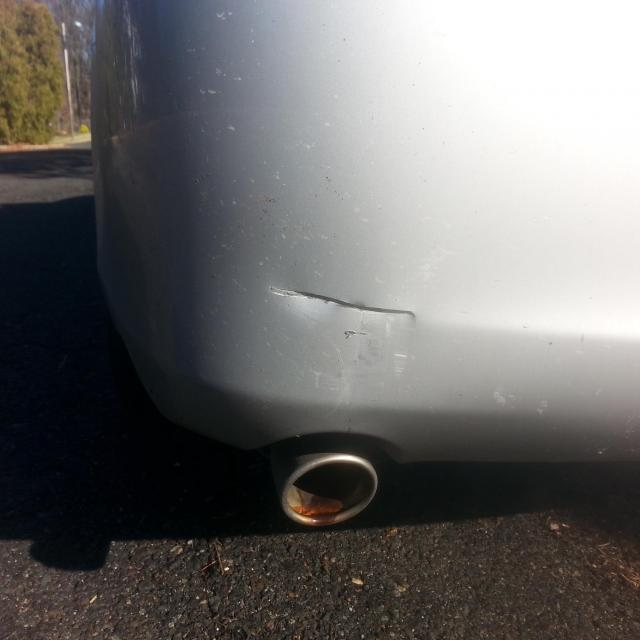scratch: (251, 273, 430, 421)
tear: (267, 283, 421, 319)
